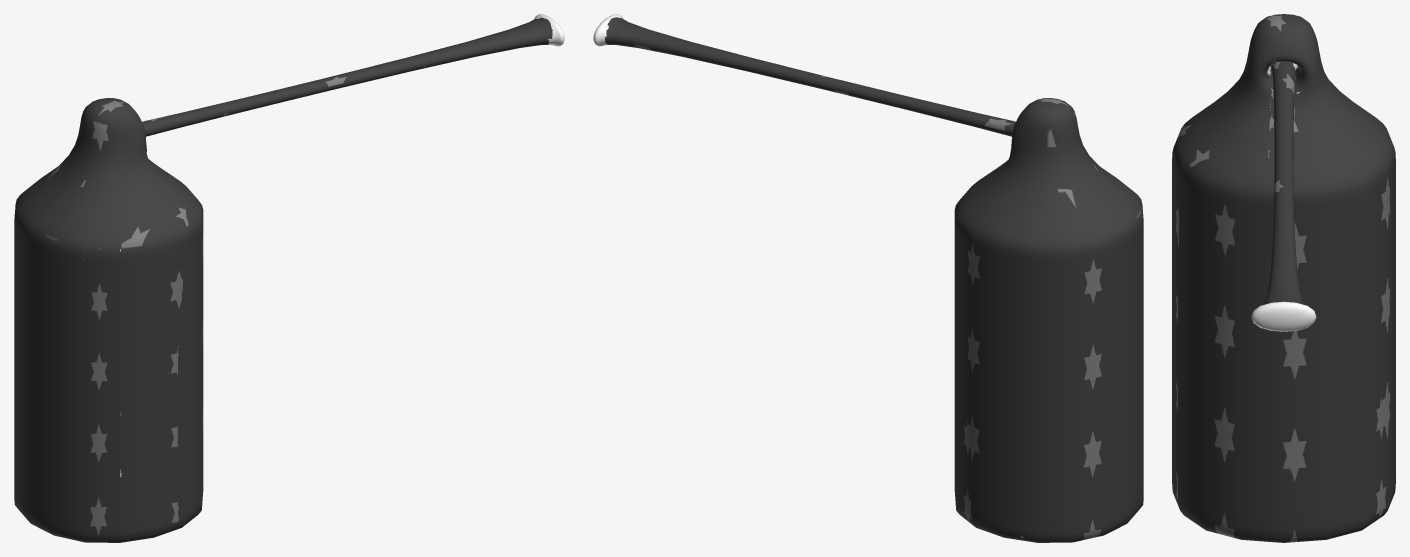
File: bul.obj
3 views of the same model, side by side, from view 1: azimuth 30°, elevation 25°; view 2: azimuth 150°, elevation 25°; view 3: azimuth 270°, elevation 25° (orthographic). The views are drawn at different scales.
Visible parts, largest first — view 1: Cube; view 2: Cube; view 3: Cube.
Part boxes in pixels (<box>): Cube: <box>14,14,564,542</box>; Cube: <box>593,14,1143,542</box>; Cube: <box>1172,14,1395,542</box>.
Bounding box in the file's own units: 5.94 × 4.39 × 1.83.
1 material, 1 textured.
